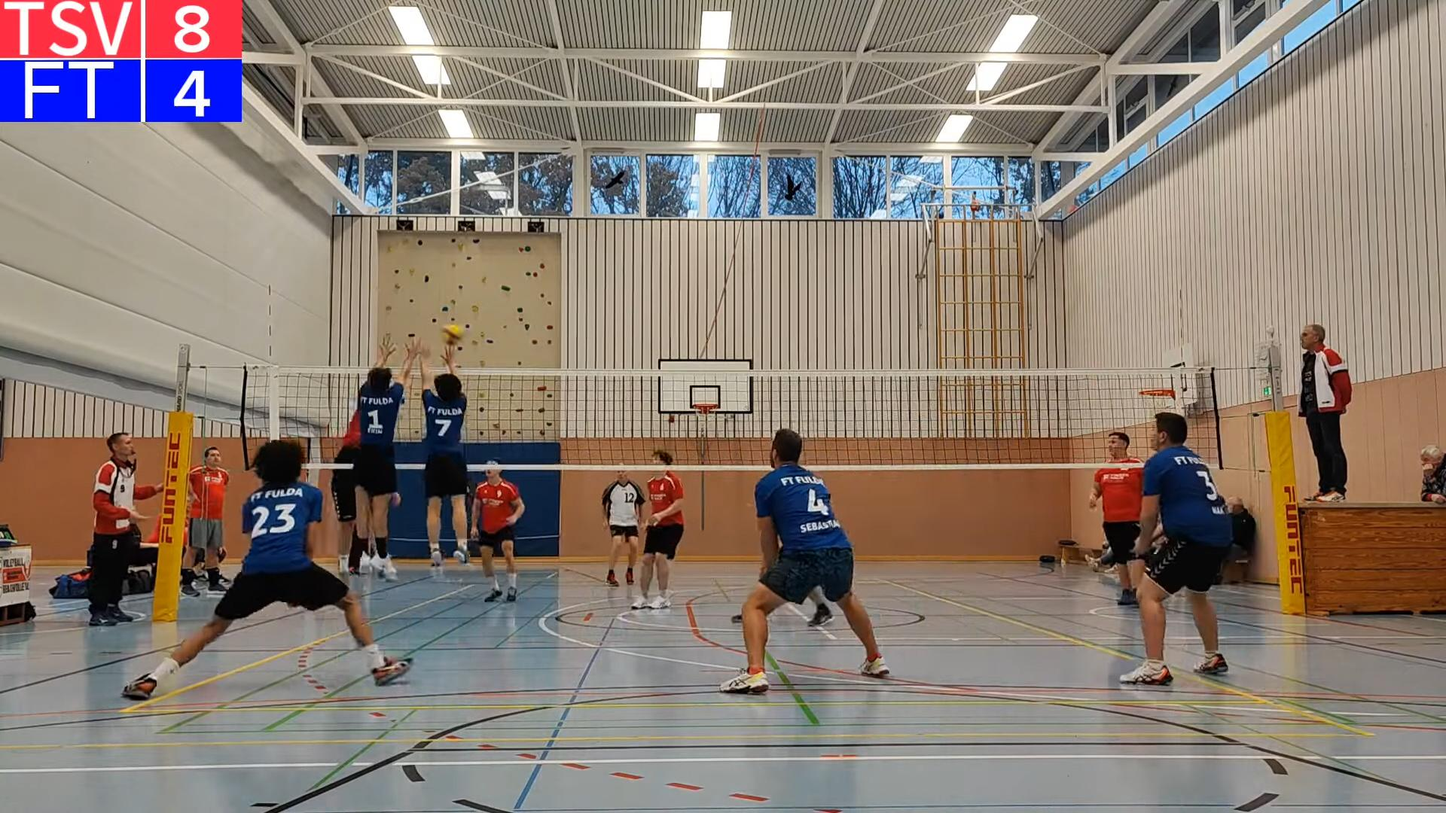Attack: (324, 356, 358, 571)
Block: (352, 335, 417, 578), (412, 344, 475, 568)
Player: (123, 441, 408, 699), (719, 429, 888, 693), (1120, 412, 1231, 684), (1089, 431, 1143, 605), (631, 449, 683, 608), (471, 461, 524, 601), (602, 469, 645, 586), (807, 586, 832, 626)
ball: (444, 323, 472, 341)
